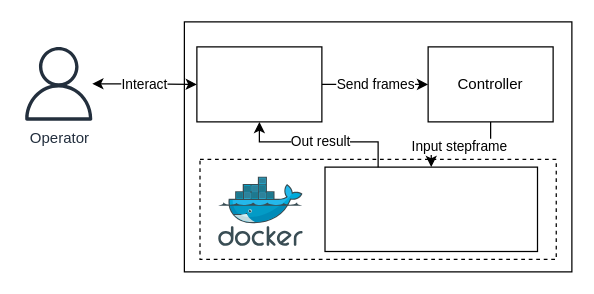
Image size: 594x294. Some labels were removed from this diagram. The centre of each missing label's shape, as x and y in pixels:
"ML container" goes at point (431, 209).
"RTSP stream" goes at point (259, 84).
